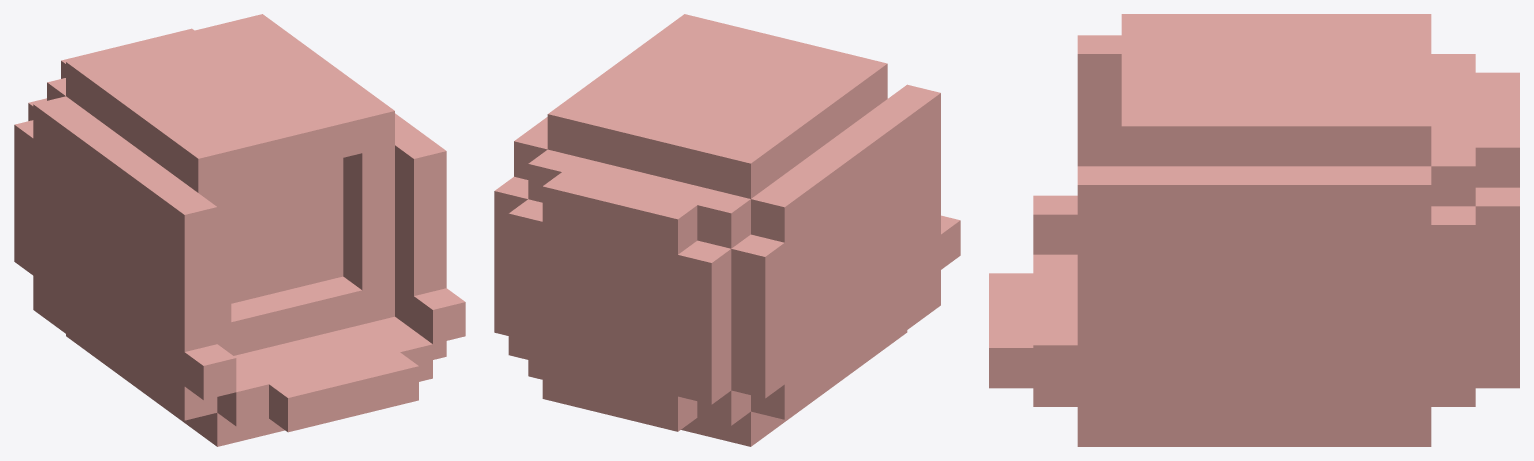
File: piglet__body.glb
3 views of the same model, side by side, from view 1: azimuth 30°, elevation 25°; view 2: azimuth 150°, elevation 25°; view 3: azimuth 270°, elevation 25° (orthographic). The views are drawn at different scales.
Parts seen in each view (by area): view 1: piglet__body; view 2: piglet__body; view 3: piglet__body.
Boxes of the visible parts, x1,y1,x2,y2 form: piglet__body: [14, 14, 465, 446]; piglet__body: [494, 14, 960, 446]; piglet__body: [989, 14, 1519, 446].
Bounding box in the file's own units: 0.8 × 0.8 × 1.2.
Materials: 1 (1 with a texture image).
